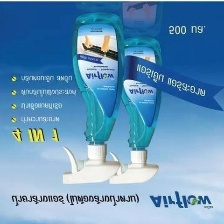cleaning_solution: (60, 8, 127, 186), (104, 33, 165, 185)
